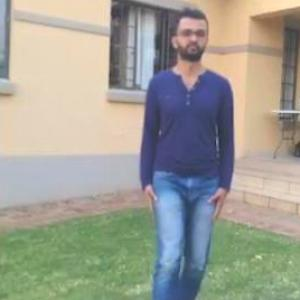follow: (142, 5, 234, 270)
